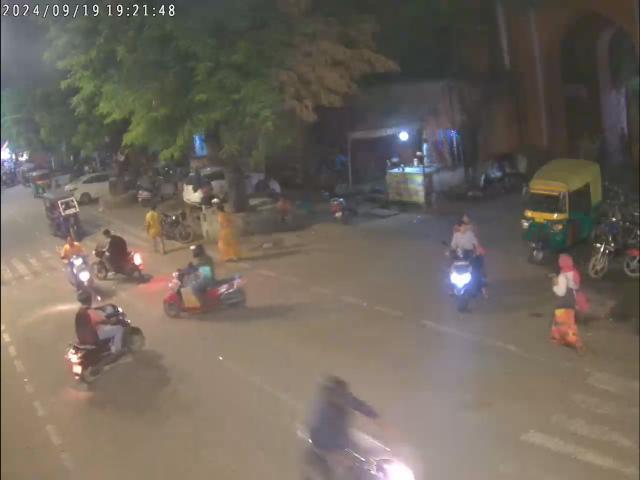auto: (523, 156, 606, 260)
helmet: (76, 288, 96, 310), (189, 244, 204, 257)
motorbike-rider: (95, 226, 142, 276)
no_helmet: (458, 220, 472, 236), (63, 232, 76, 246)
person: (548, 249, 583, 354)
scooty-rider: (64, 288, 148, 380), (166, 247, 244, 322), (450, 214, 488, 304), (62, 236, 97, 294)
